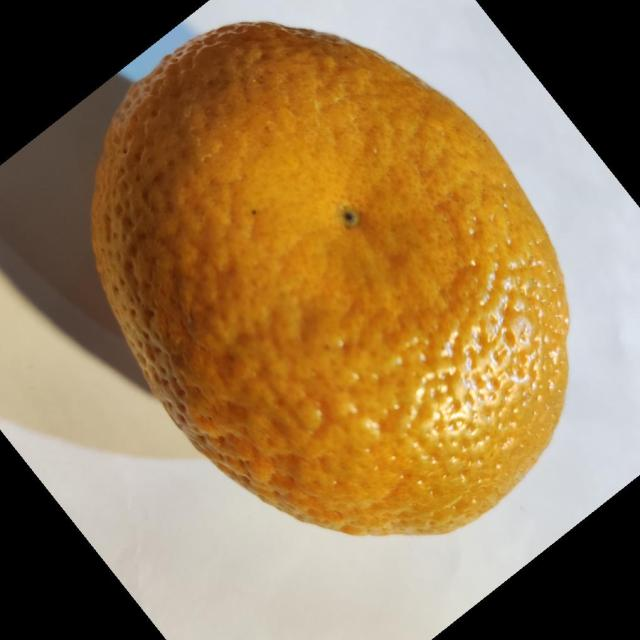fresh orange: (90, 20, 571, 537)
